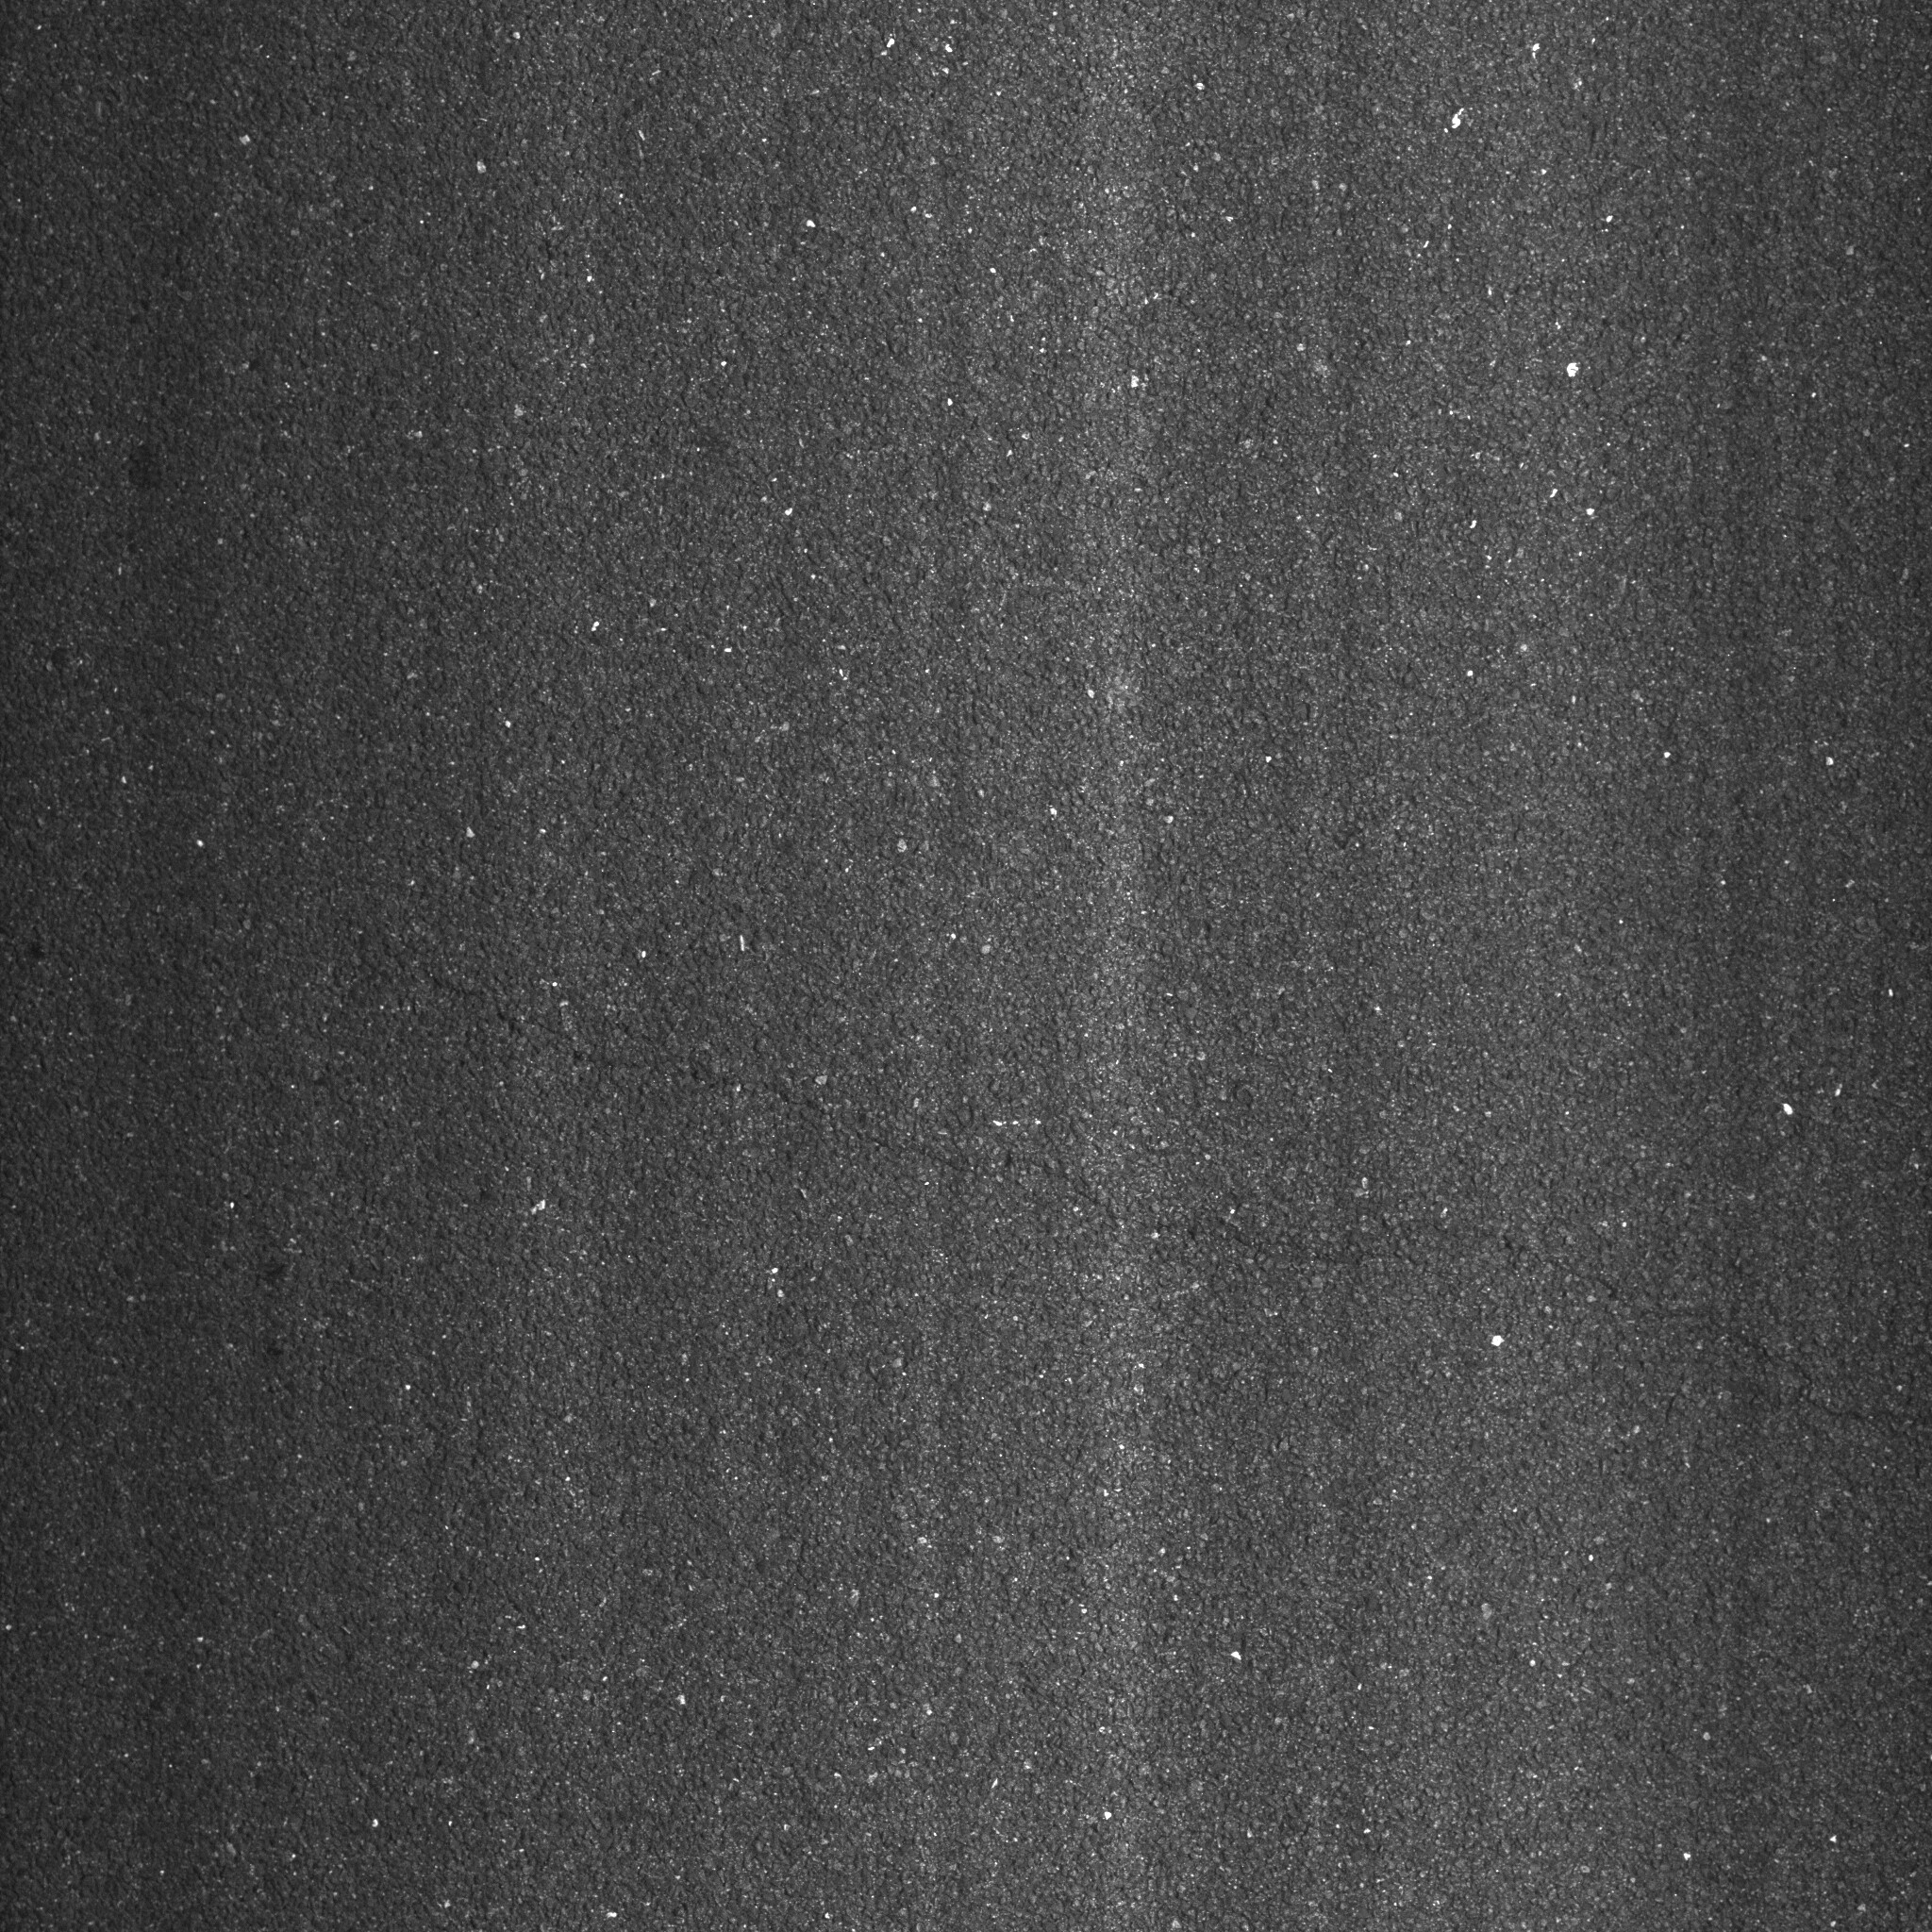transeverse: (375, 915, 1921, 1438)
